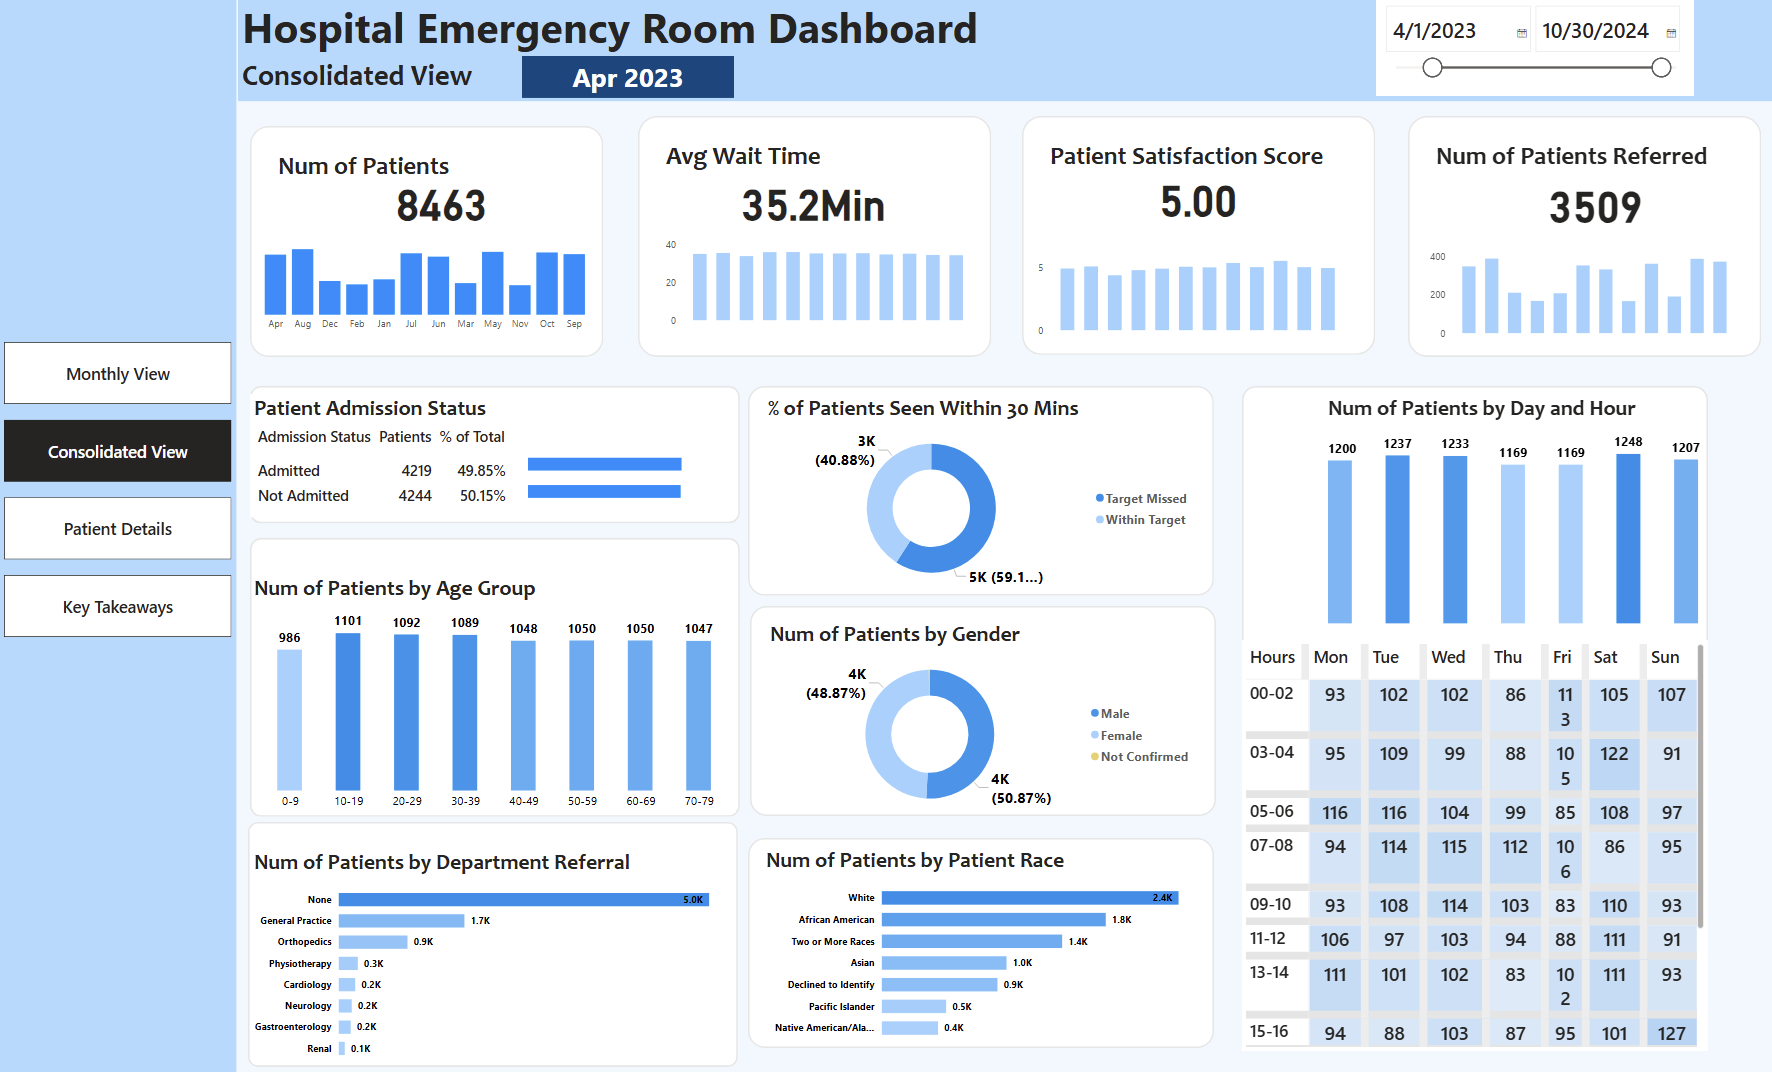

The page's visual inventory and layout, read from the dashboard file:
{"tool":"powerbi","page":{"name":"Consolidated View","canvas":[2300,1400],"ordinal":1},"visuals":[{"type":"shape","box":[8.7,0,310,1399.7],"z":0},{"type":"shape","box":[320.5,0,1979.5,138.5],"z":1000},{"type":"textbox","box":[320.5,0,1038.5,138.5],"z":2000},{"type":"textbox","box":[319.4,77.3,332.3,56.7],"z":3000},{"type":"shape","box":[335.9,169.2,455,297.4],"z":4000},{"type":"card","fields":{"Values":["Hospital ER_Data.Num of Patients"]},"box":[474.4,207.7,215.4,112.8],"z":5000},{"type":"slicer","fields":{"Values":["Date Table.Date"]},"box":[1784.9,5.2,409.5,126.2],"z":6000},{"type":"textbox","box":[366.7,194.9,282.1,71.8],"z":8000},{"type":"columnChart","fields":{"Category":["Date Table.Month Name"],"Y":["Hospital ER_Data.Num of Patients"]},"box":[334.8,309.1,450.7,133.9],"z":9000},{"type":"card","fields":{"Values":["Min(Date Table.Month & Year)"]},"box":[685.1,79.8,273,54.1],"z":10000},{"type":"shape","box":[833.3,156.4,455,310.3],"z":11000},{"type":"card","fields":{"Values":["Hospital ER_Data.Avg Wait Time"]},"box":[953.8,207.7,215.4,112.8],"z":12000},{"type":"columnChart","fields":{"Category":["Date Table.Month Name"],"Y":["Avg(Hospital ER_Data.Patient Waittime)"]},"box":[866.7,310.3,405.1,125],"z":13000},{"type":"textbox","box":[866.4,183.1,282.1,71.8],"z":14000},{"type":"shape","box":[1329.5,156.4,455,307.7],"z":15000},{"type":"card","fields":{"Values":["Hospital ER_Data.Satisfaction Score"]},"box":[1448.7,202.6,215.4,112.8],"z":16000},{"type":"textbox","box":[1359,182.1,389.7,71.8],"z":17000},{"type":"columnChart","fields":{"Category":["Date Table.Month Name"],"Y":["Hospital ER_Data.Satisfaction Score"]},"box":[1343.6,323.1,405.1,125],"z":18000},{"type":"shape","box":[1825.6,156.4,455,310.3],"z":19000},{"type":"card","fields":{"Values":["Hospital ER_Data.Num of Patients Referred"]},"box":[1959,210.3,215.4,112.8],"z":20000},{"type":"textbox","box":[1856.4,182.1,417.9,71.8],"z":21000},{"type":"shape","box":[335.9,505.1,630.8,176.9],"z":22000},{"type":"columnChart","fields":{"Category":["Date Table.Month Name"],"Y":["Hospital ER_Data.Num of Patients Referred"]},"box":[1849.3,324.5,404.4,126.2],"z":23000},{"type":"pivotTable","title":"Patient Admission Status","fields":{"Rows":["Hospital ER_Data.Admission Status"],"Values":["Hospital ER_Data.Num of Patients1","Hospital ER_Data.Num of Patients"]},"box":[335.9,515.4,351.3,159],"z":24000},{"type":"barChart","title":"Num of Patients by Admission Status","fields":{"Category":["Hospital ER_Data.Admission Status"],"Y":["Hospital ER_Data.Num of Patients"],"Series":["Hospital ER_Data.Admission Status"]},"box":[687.2,566.7,289.7,107.7],"z":25000},{"type":"shape","box":[335.9,700,630.8,359],"z":26000},{"type":"shape","box":[333.3,1066.7,630.8,315.4],"z":27000},{"type":"clusteredColumnChart","fields":{"Category":["Hospital ER_Data.Age Group"],"Y":["Hospital ER_Data.Num of Patients"]},"box":[335.9,746.2,630.8,312.8],"z":28000},{"type":"clusteredBarChart","fields":{"Category":["Hospital ER_Data.Department Referral"],"Y":["Hospital ER_Data.Num of Patients"]},"box":[334.8,1099.8,618.1,283.3],"z":29000},{"type":"shape","box":[976.9,505.1,600,270],"z":30000},{"type":"donutChart","title":"% of Patients Seen Within 30 Mins","fields":{"Category":["Hospital ER_Data.Waittime Status"],"Y":["Hospital ER_Data.Num of Patients"]},"box":[996.8,515.1,558.9,260.1],"z":31000},{"type":"shape","box":[978.7,788.1,600.1,270.4],"z":32000},{"type":"donutChart","title":"Num of Patients by Gender","fields":{"Category":["Hospital ER_Data.Patient Gender"],"Y":["Hospital ER_Data.Num of Patients"]},"box":[999.3,806.2,558.9,260.1],"z":33000},{"type":"shape","box":[976.1,1086.9,600.1,270.4],"z":34000},{"type":"clusteredBarChart","fields":{"Y":["Hospital ER_Data.Num of Patients"],"Category":["Hospital ER_Data.Patient Race"]},"box":[994.2,1097.2,564.1,260.1],"z":35000},{"type":"shape","box":[1612.3,504.8,600.1,852.5],"z":36000},{"type":"pivotTable","fields":{"Rows":["Hospital ER_Data.Waittime Interval"],"Columns":["Date Table.Day Name"],"Values":["Hospital ER_Data.Num of Patients"]},"box":[1612.3,831.9,600.1,528],"z":37000},{"type":"columnChart","title":"Num of Patients by Day and Hour","fields":{"Category":["Date Table.Day Name"],"Y":["Hospital ER_Data.Num of Patients"]},"box":[1717.9,515.1,489.4,301.3],"z":38000},{"type":"pageNavigator","box":[18,448.2,293.6,383.8],"z":38001}]}

Visuals, with their boxes in screenshot pixels (x1, y1, x2, y2), scaled from the page's 2300x1400 canvas onto the 1772x1072 screenshot:
shape: x1=7, y1=0, x2=246, y2=1071
shape: x1=247, y1=0, x2=1771, y2=106
textbox: x1=247, y1=0, x2=1047, y2=106
textbox: x1=246, y1=59, x2=502, y2=103
shape: x1=259, y1=130, x2=609, y2=357
card - Hospital ER_Data.Num of Patients: x1=365, y1=159, x2=531, y2=245
slicer - Date Table.Date: x1=1375, y1=4, x2=1691, y2=101
textbox: x1=283, y1=149, x2=500, y2=204
columnChart - Date Table.Month Name x Hospital ER_Data.Num of Patients: x1=258, y1=237, x2=605, y2=339
card - Min(Date Table.Month & Year): x1=528, y1=61, x2=738, y2=103
shape: x1=642, y1=120, x2=993, y2=357
card - Hospital ER_Data.Avg Wait Time: x1=735, y1=159, x2=901, y2=245
columnChart - Date Table.Month Name x Avg(Hospital ER_Data.Patient Waittime): x1=668, y1=238, x2=980, y2=333
textbox: x1=668, y1=140, x2=885, y2=195
shape: x1=1024, y1=120, x2=1375, y2=355
card - Hospital ER_Data.Satisfaction Score: x1=1116, y1=155, x2=1282, y2=242
textbox: x1=1047, y1=139, x2=1347, y2=194
columnChart - Date Table.Month Name x Hospital ER_Data.Satisfaction Score: x1=1035, y1=247, x2=1347, y2=343
shape: x1=1407, y1=120, x2=1757, y2=357
card - Hospital ER_Data.Num of Patients Referred: x1=1509, y1=161, x2=1675, y2=247
textbox: x1=1430, y1=139, x2=1752, y2=194
shape: x1=259, y1=387, x2=745, y2=522
columnChart - Date Table.Month Name x Hospital ER_Data.Num of Patients Referred: x1=1425, y1=248, x2=1736, y2=345
"Patient Admission Status" pivotTable: x1=259, y1=395, x2=529, y2=516
"Num of Patients by Admission Status" barChart: x1=529, y1=434, x2=753, y2=516
shape: x1=259, y1=536, x2=745, y2=811
shape: x1=257, y1=817, x2=743, y2=1058
clusteredColumnChart - Hospital ER_Data.Age Group x Hospital ER_Data.Num of Patients: x1=259, y1=571, x2=745, y2=811
clusteredBarChart - Hospital ER_Data.Department Referral x Hospital ER_Data.Num of Patients: x1=258, y1=842, x2=734, y2=1059
shape: x1=753, y1=387, x2=1215, y2=594
"% of Patients Seen Within 30 Mins" donutChart: x1=768, y1=394, x2=1199, y2=594
shape: x1=754, y1=603, x2=1216, y2=811
"Num of Patients by Gender" donutChart: x1=770, y1=617, x2=1200, y2=816
shape: x1=752, y1=832, x2=1214, y2=1039
clusteredBarChart - Hospital ER_Data.Num of Patients x Hospital ER_Data.Patient Race: x1=766, y1=840, x2=1201, y2=1039
shape: x1=1242, y1=387, x2=1705, y2=1039
pivotTable - Hospital ER_Data.Waittime Interval x Date Table.Day Name: x1=1242, y1=637, x2=1705, y2=1041
"Num of Patients by Day and Hour" columnChart: x1=1324, y1=394, x2=1701, y2=625
pageNavigator: x1=14, y1=343, x2=240, y2=637
